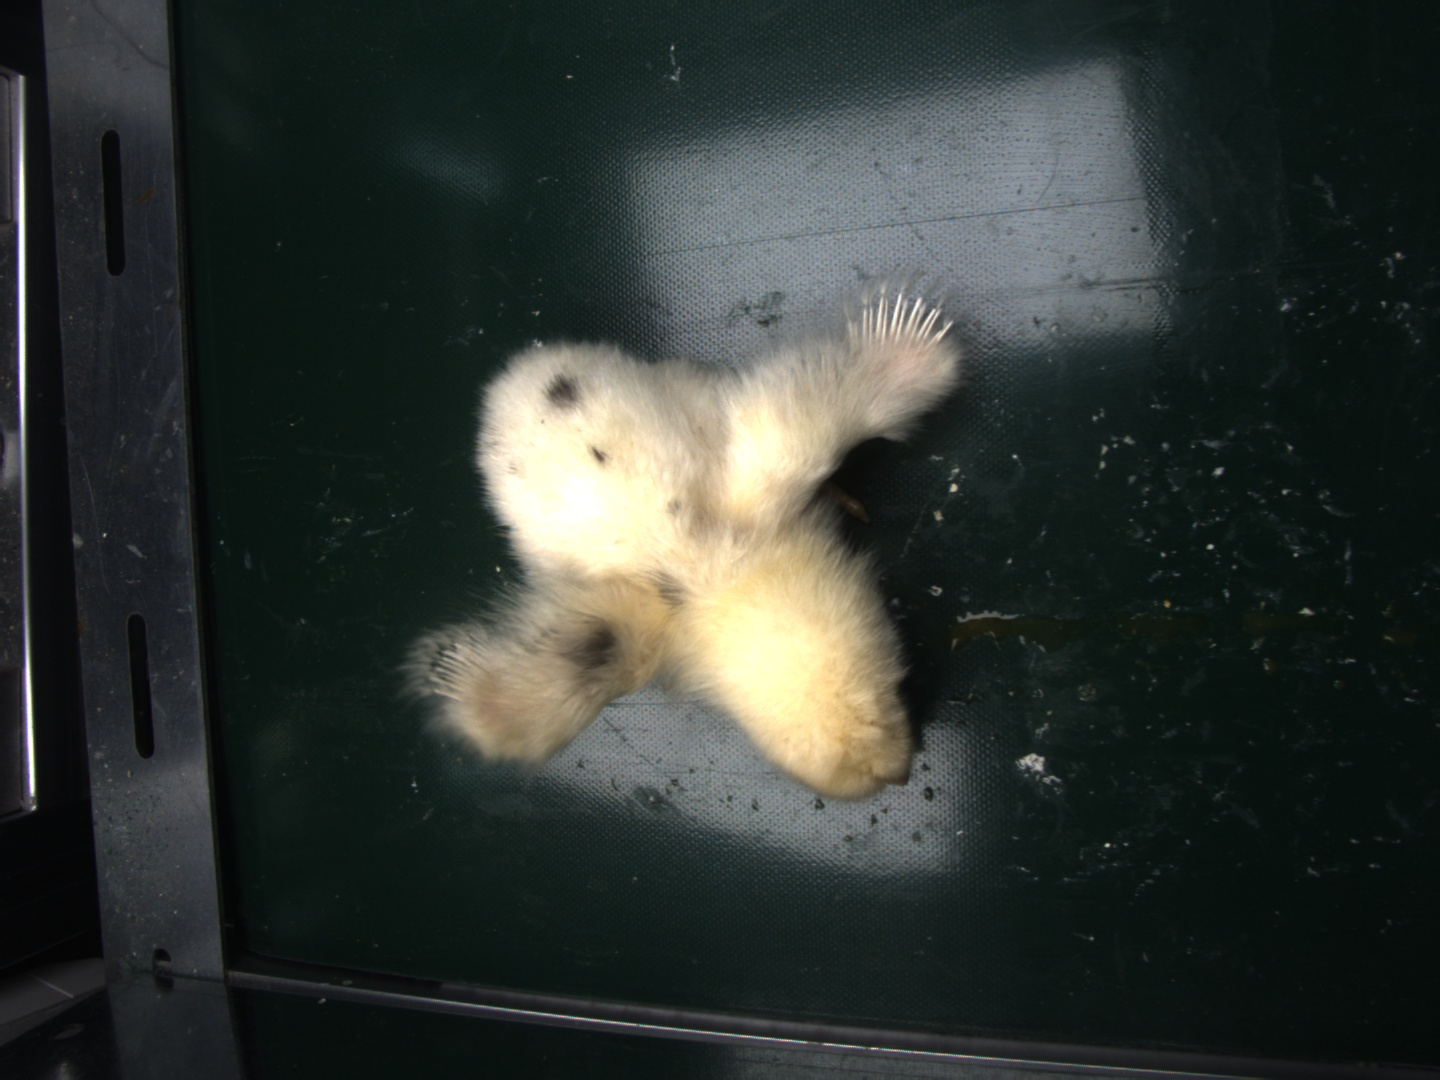male: (852, 290, 955, 347), (429, 636, 484, 701)
